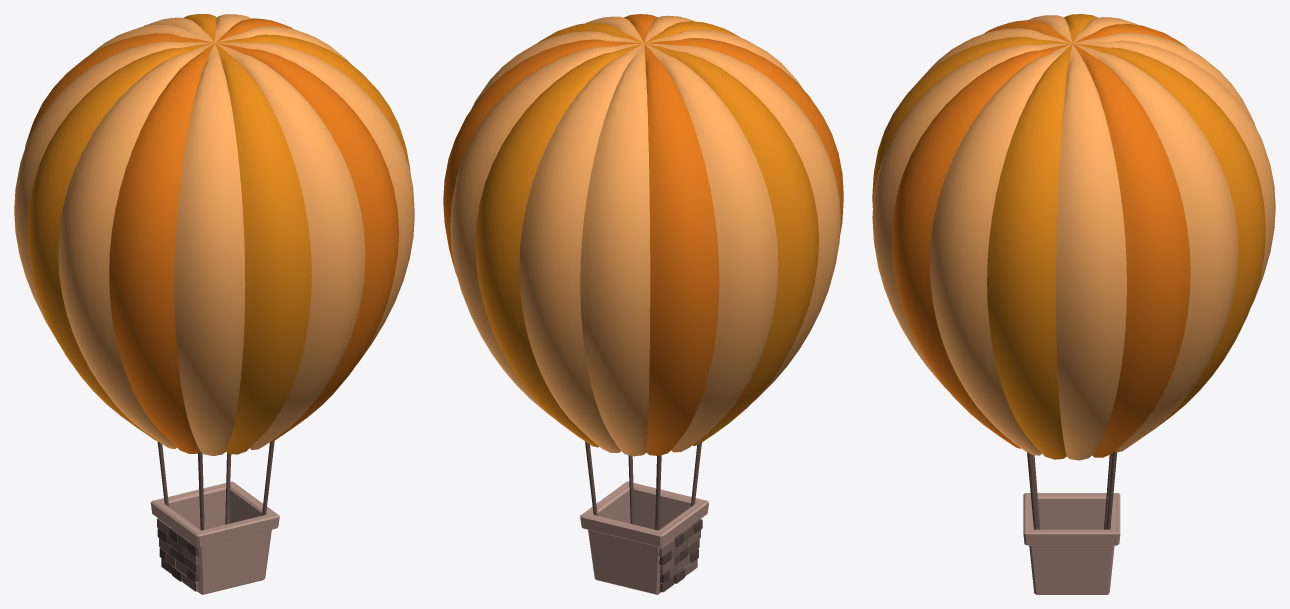
Rendered from balloon_220916_orange.glb.
3 views of the same model, side by side, from view 1: azimuth 30°, elevation 25°; view 2: azimuth 150°, elevation 25°; view 3: azimuth 270°, elevation 25° (orthographic).
Parts seen in each view (by area): view 1: 球.001, 立方体.002; view 2: 球.001, 立方体.002; view 3: 球.001, 立方体.002.
Part boxes in pixels (x1,y1,x2,y2): 球.001: [14, 14, 414, 455]; 立方体.002: [150, 481, 279, 594]; 球.001: [443, 14, 843, 456]; 立方体.002: [580, 481, 708, 594]; 球.001: [872, 14, 1275, 460]; 立方体.002: [1023, 493, 1120, 594].
Size of the model in its own units: 1.9 by 2.78 by 1.89.
